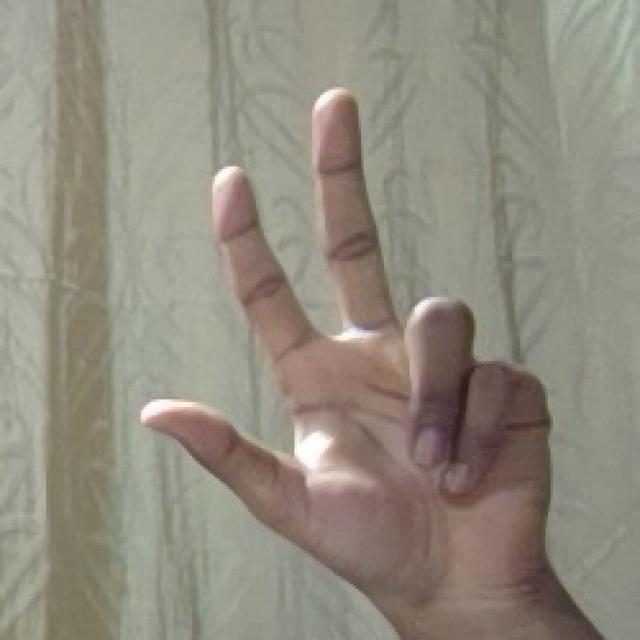Numeric-3: (137, 80, 548, 590)
